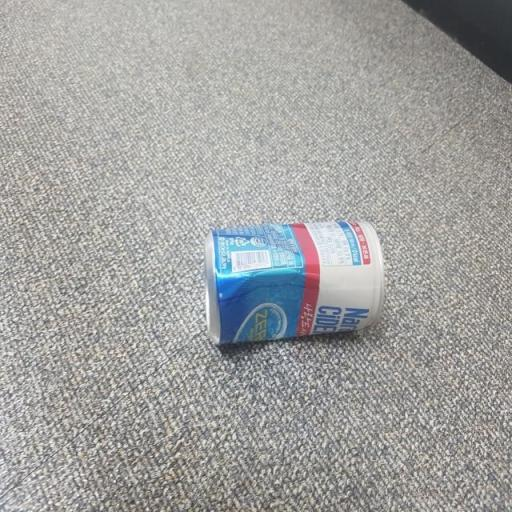metal: (196, 197, 389, 367)
